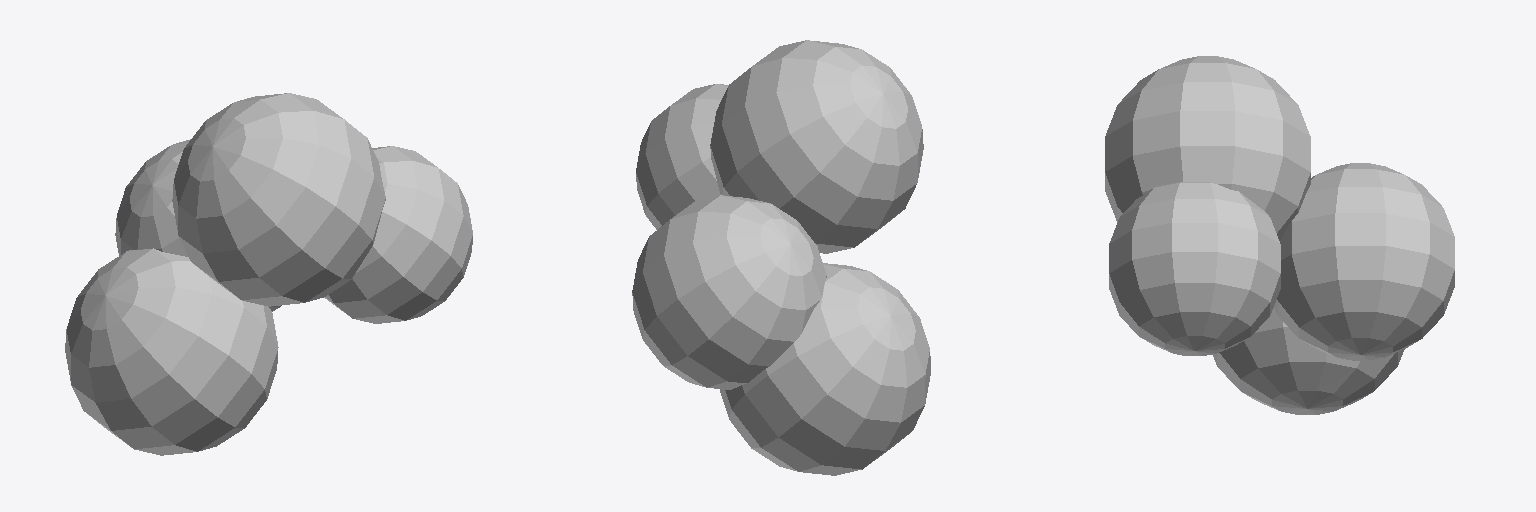
3 views of the same model, side by side, from view 1: azimuth 30°, elevation 25°; view 2: azimuth 150°, elevation 25°; view 3: azimuth 270°, elevation 25° (orthographic).
Parts seen in each view (by area): view 1: bubbles4_group[number redacted]; view 2: bubbles4_group[number redacted]; view 3: bubbles4_group[number redacted].
Boxes of the visible parts, box(x1,y1,x2,y2) form: bubbles4_group[number redacted]: box(65, 93, 472, 455); bubbles4_group[number redacted]: box(632, 40, 930, 475); bubbles4_group[number redacted]: box(1105, 56, 1454, 414).
Bounding box in the file's own units: 0.2532 × 0.2711 × 0.2365.